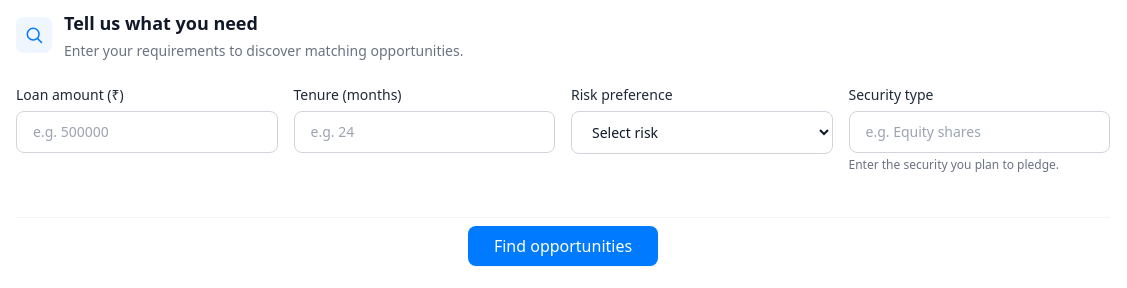
it: RequirementForm validation › shows validation errors when the form is submitted empty
Click the button "Find opportunities" at [563, 246], box [468,226,658,266]
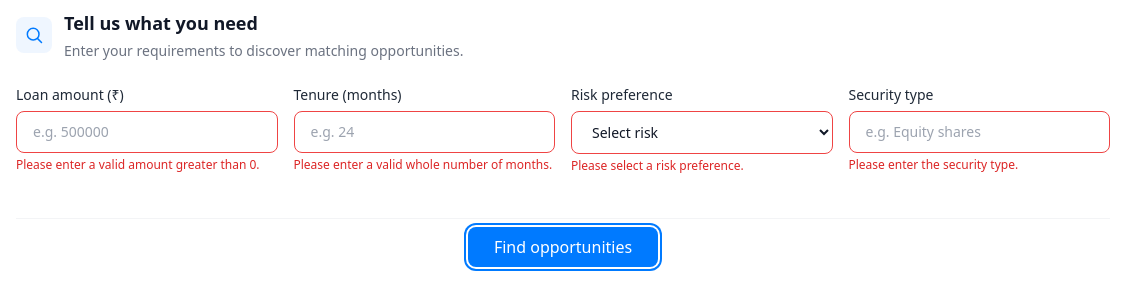
Check: the text "Please enter a valid amount greater than 0." is shown, box [16,157,278,173]
Check: the text "Please enter a valid whole number of months." is shown, box [294,157,555,173]
Check: the text "Please select a risk preference." is shown, box [571,157,744,174]
